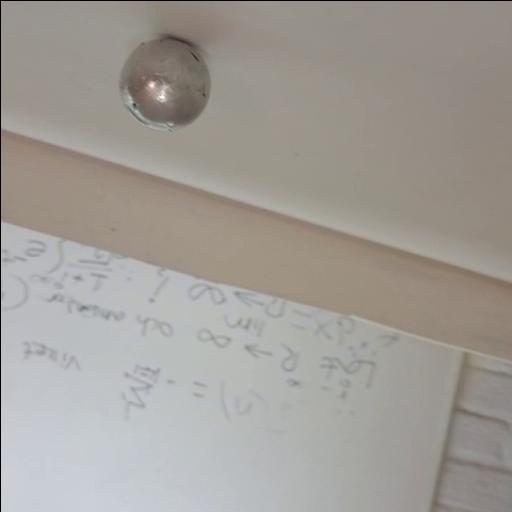alive: (117, 35, 212, 133)
